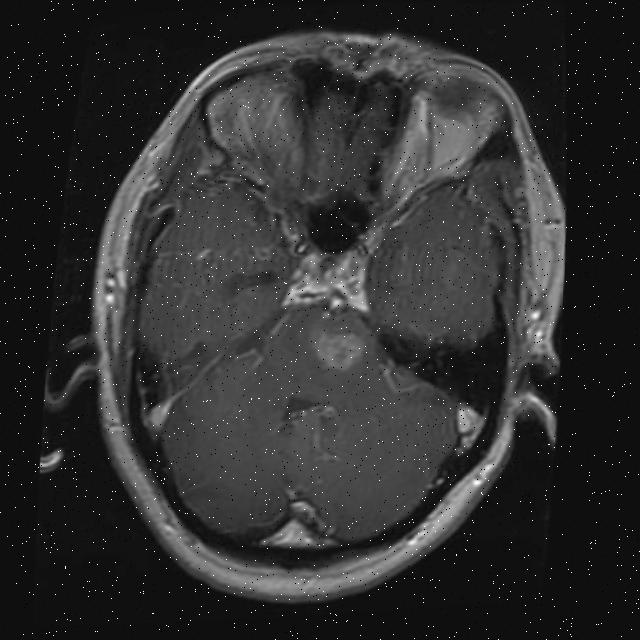Glioma: (311, 326, 366, 376)
